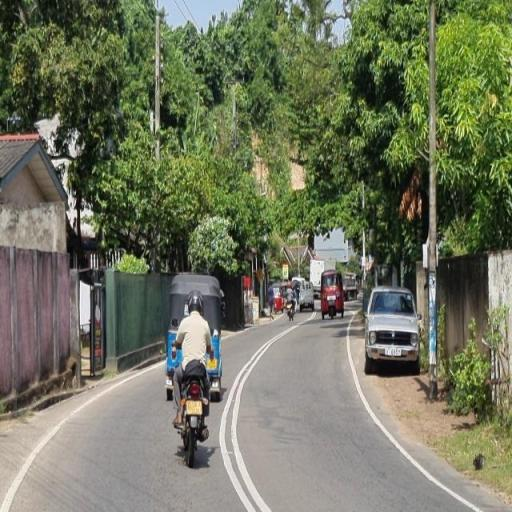double_white_line: (341, 319, 482, 511), (222, 330, 274, 512)
